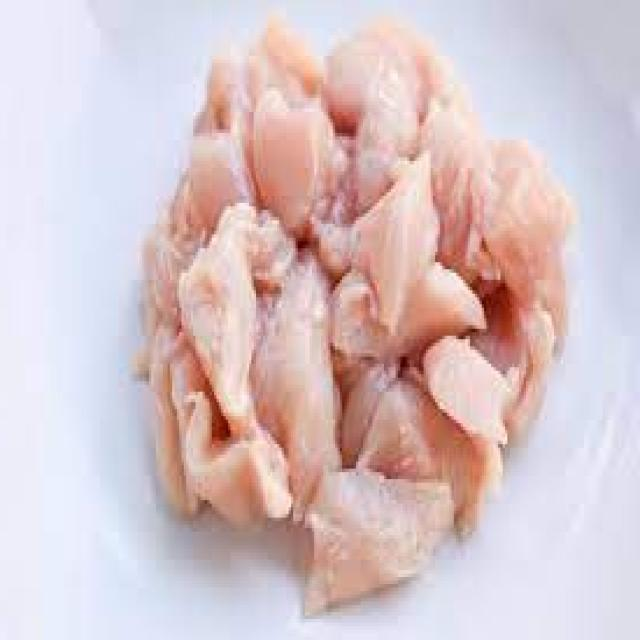Chicken: (135, 11, 574, 622)
